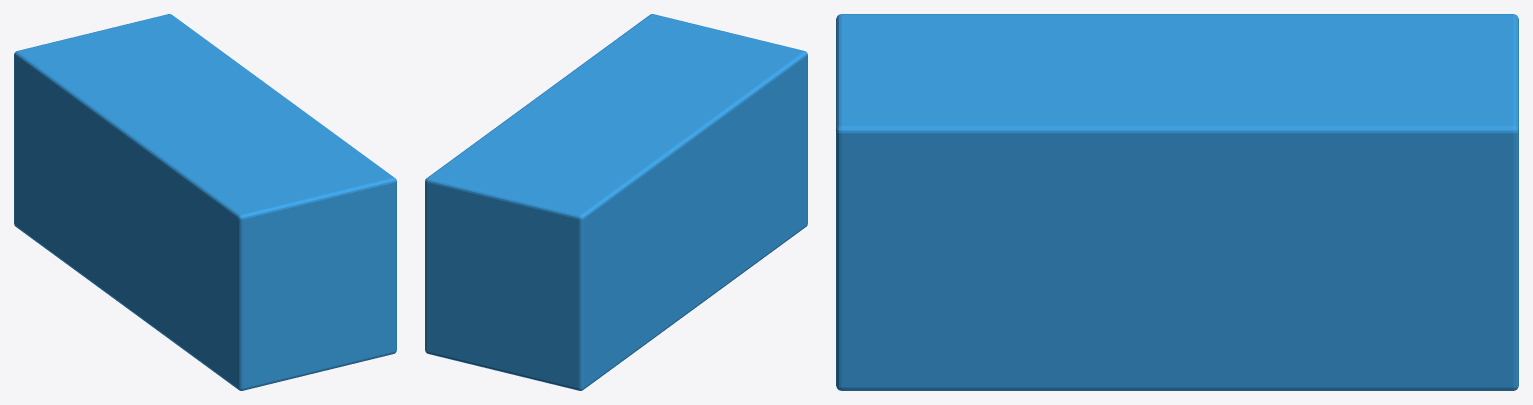
The model's file is contenedor_docker.glb.
3 views of the same model, side by side, from view 1: azimuth 30°, elevation 25°; view 2: azimuth 150°, elevation 25°; view 3: azimuth 270°, elevation 25° (orthographic). The views are drawn at different scales.
Parts seen in each view (by area): view 1: Contenedor_Docker; view 2: Contenedor_Docker; view 3: Contenedor_Docker.
Part boxes in pixels (x1=…): Contenedor_Docker: x1=14, y1=14, x2=396, y2=390; Contenedor_Docker: x1=425, y1=14, x2=807, y2=390; Contenedor_Docker: x1=836, y1=14, x2=1518, y2=390.
Size of the model in its own units: 2.44 by 2.59 by 6.06.
